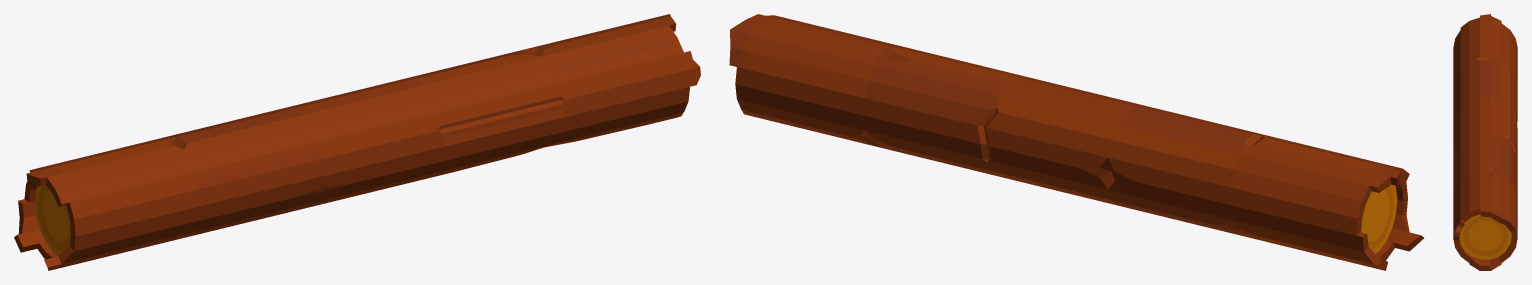
Rendered from Log_3.fbx.
3 renders of one model, left to right at view 1: azimuth 30°, elevation 25°; view 2: azimuth 150°, elevation 25°; view 3: azimuth 270°, elevation 25°, orthographic. The views are drawn at different scales.
Visible parts, largest first — view 1: Circle.001; view 2: Circle.001; view 3: Circle.001.
Boxes of the visible parts, x1=… form: Circle.001: x1=14, y1=14, x2=700, y2=270; Circle.001: x1=729, y1=14, x2=1423, y2=270; Circle.001: x1=1453, y1=14, x2=1517, y2=270.
Size of the model in its own units: 174 by 23.2 by 23.56.
